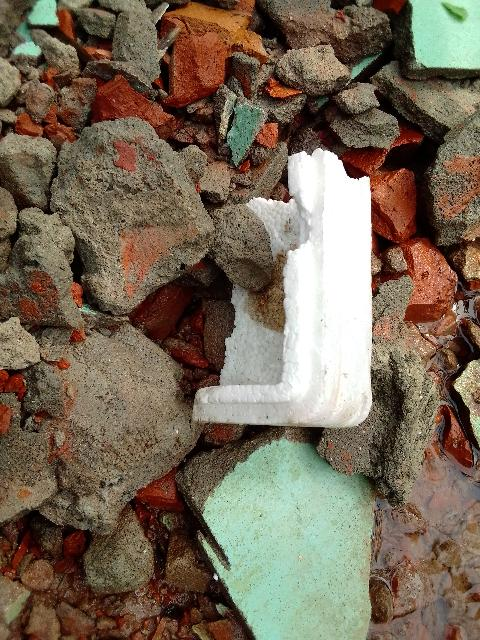cocksheet: (207, 177, 368, 429)
